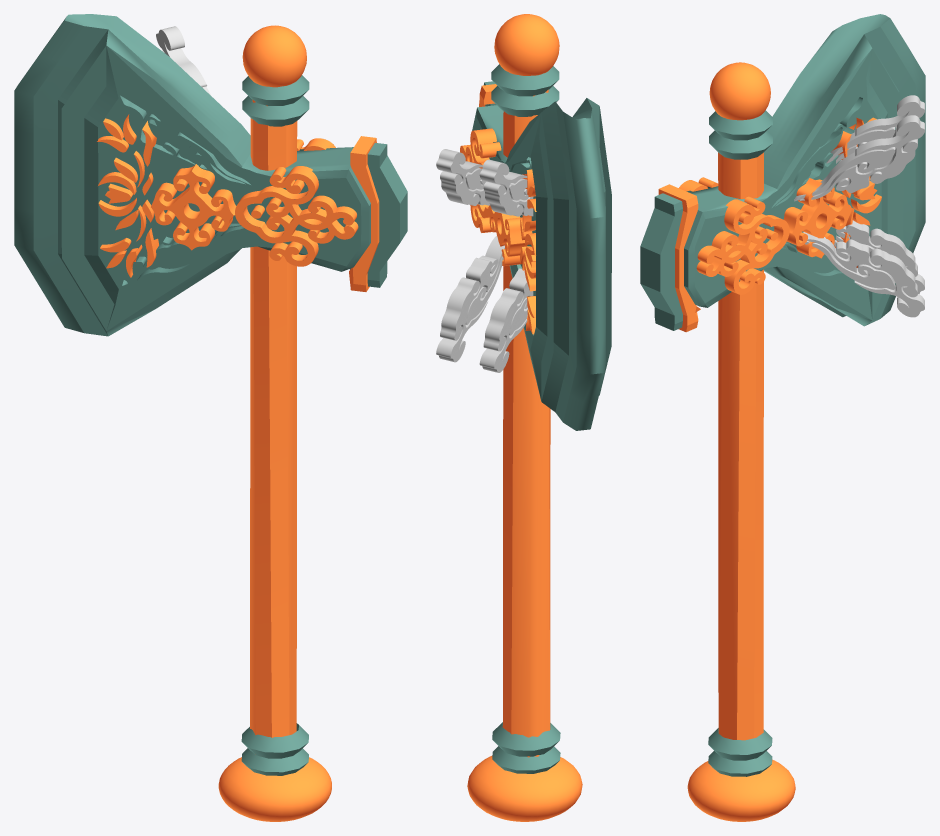
The picture shows the model from 3 angles, left to right: view 1: azimuth 30°, elevation 25°; view 2: azimuth 150°, elevation 25°; view 3: azimuth 270°, elevation 25°; orthographic projection. The views are drawn at different scales.
Visible parts, largest first — view 1: Cube, 球体.001, Cube.002, 环体.002, Curve.002; view 2: 球体.001, Cube, Curve.002, 环体.002, Cube.002; view 3: Cube, 球体.001, Cube.002, Curve.002, 环体.002.
Boxes of the visible parts, x1,y1,x2,y2 form: Cube: [14, 14, 407, 336]; 球体.001: [218, 25, 331, 821]; Cube.002: [97, 114, 379, 291]; 环体.002: [241, 75, 309, 775]; Curve.002: [156, 26, 211, 95]; 球体.001: [467, 14, 582, 821]; Cube: [472, 81, 611, 430]; Curve.002: [436, 149, 533, 372]; 环体.002: [491, 64, 560, 773]; Cube.002: [460, 84, 536, 334]; Cube: [640, 14, 925, 330]; 球体.001: [687, 62, 795, 821]; Cube.002: [658, 117, 881, 332]; Curve.002: [794, 95, 924, 317]; 环体.002: [708, 110, 772, 776].
Bounding box in the file's own units: 127 × 368 × 127.
